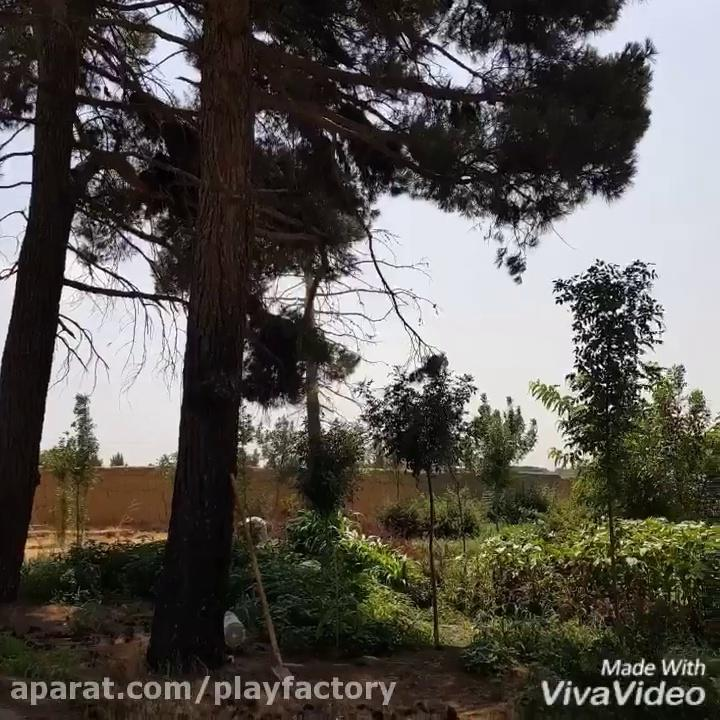drone: (361, 328, 378, 339)
